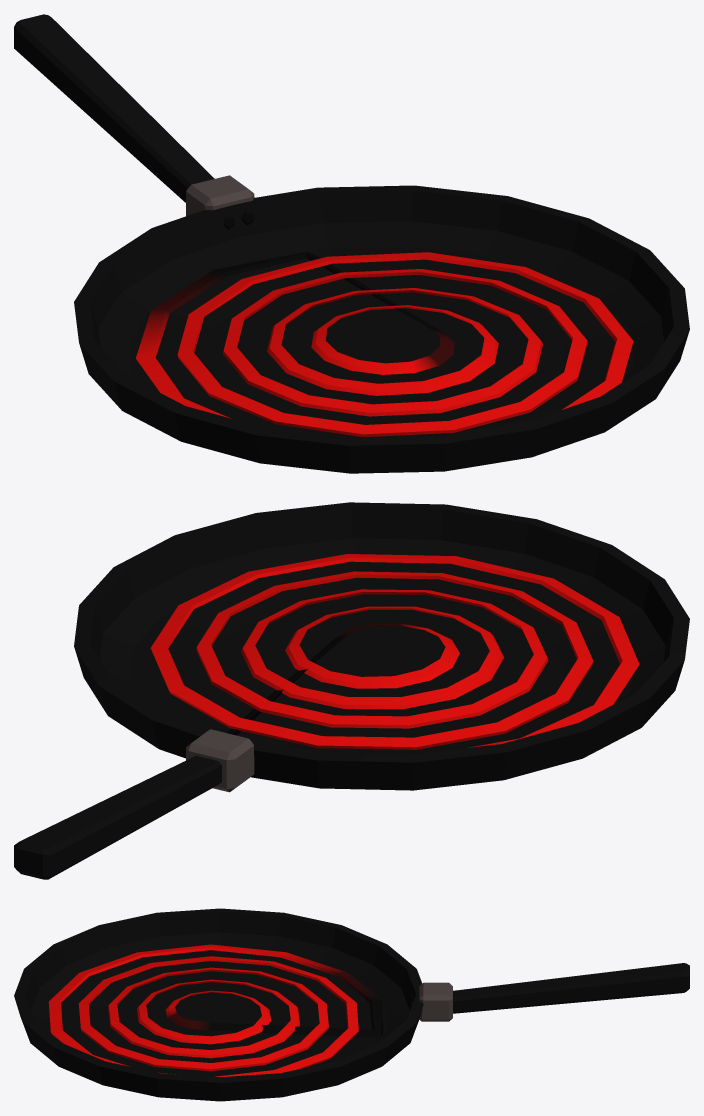
The model's file is ENV_FryingPan_01.fbx.
3 views of the same model, one above another, from view 1: azimuth 30°, elevation 25°; view 2: azimuth 150°, elevation 25°; view 3: azimuth 270°, elevation 25° (orthographic). The views are drawn at different scales.
Visible parts, largest first — view 1: ENV_FryingPan_01, coil; view 2: ENV_FryingPan_01, coil; view 3: ENV_FryingPan_01, coil.
Boxes of the visible parts, box(x1,y1,x2,y2) form: ENV_FryingPan_01: box(14, 14, 689, 473); coil: box(136, 251, 633, 436); ENV_FryingPan_01: box(14, 502, 689, 879); coil: box(150, 554, 639, 749); ENV_FryingPan_01: box(14, 908, 689, 1101); coil: box(48, 944, 383, 1077).
Bounding box in the file's own units: 48.34 × 8.12 × 79.14.
